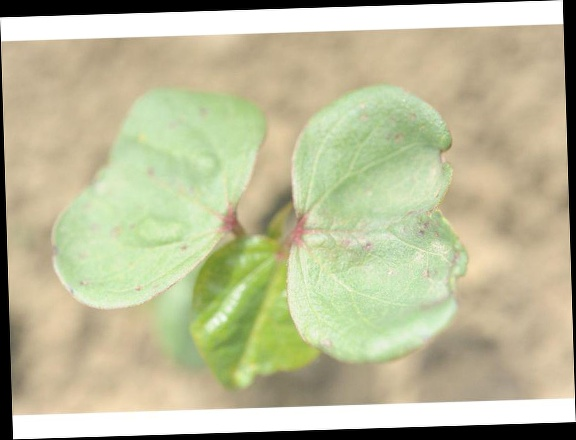cotton: (49, 85, 468, 392)
